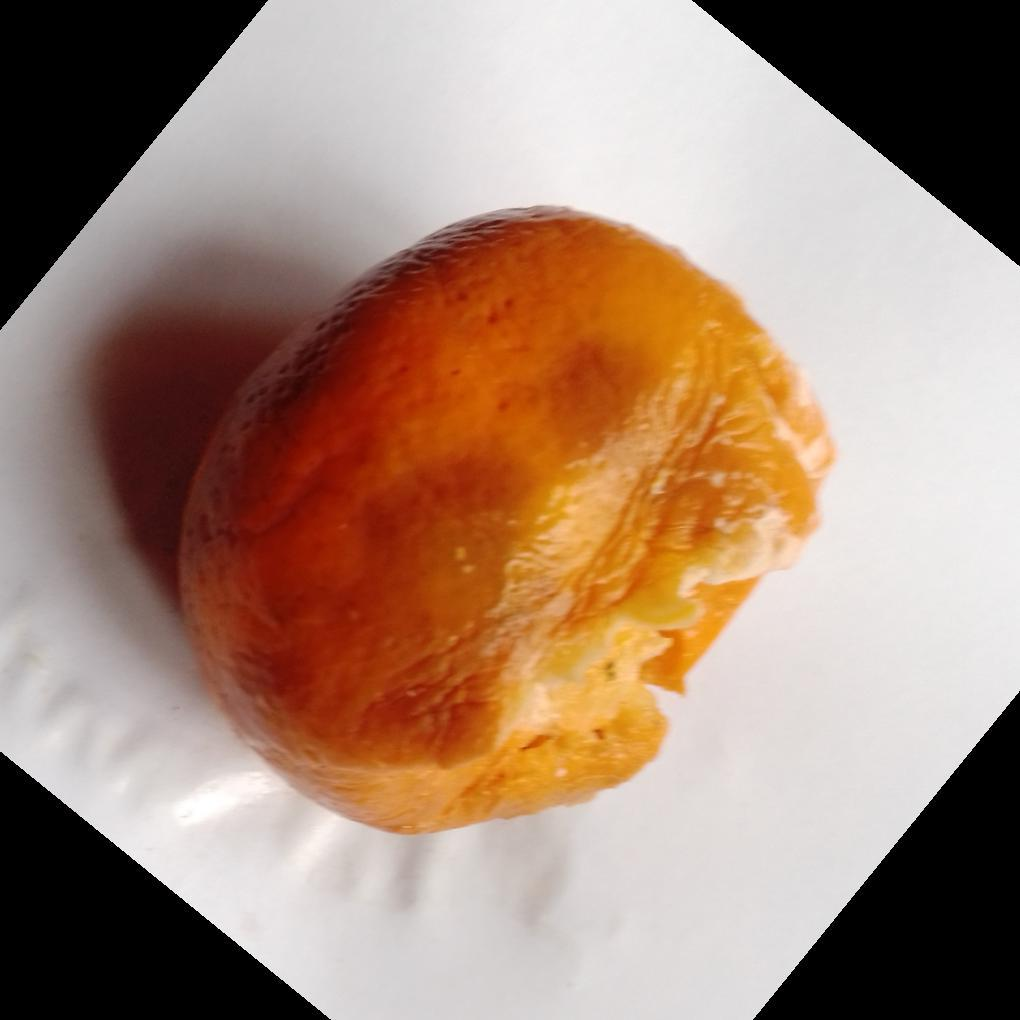FreshOrange: (171, 207, 839, 841)
